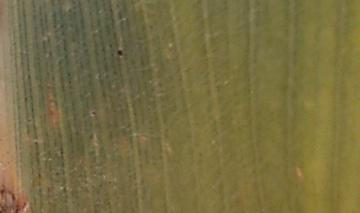tarspot: (10, 191, 16, 202), (87, 131, 94, 140), (51, 23, 58, 31), (13, 205, 20, 213), (116, 49, 123, 56), (25, 73, 32, 80), (66, 7, 72, 15), (23, 95, 28, 104), (90, 110, 97, 116), (58, 23, 65, 29), (107, 42, 113, 49), (25, 117, 32, 123), (65, 71, 72, 77), (54, 170, 60, 177), (67, 79, 73, 85), (33, 140, 39, 146), (1, 188, 6, 195), (108, 6, 113, 12)
